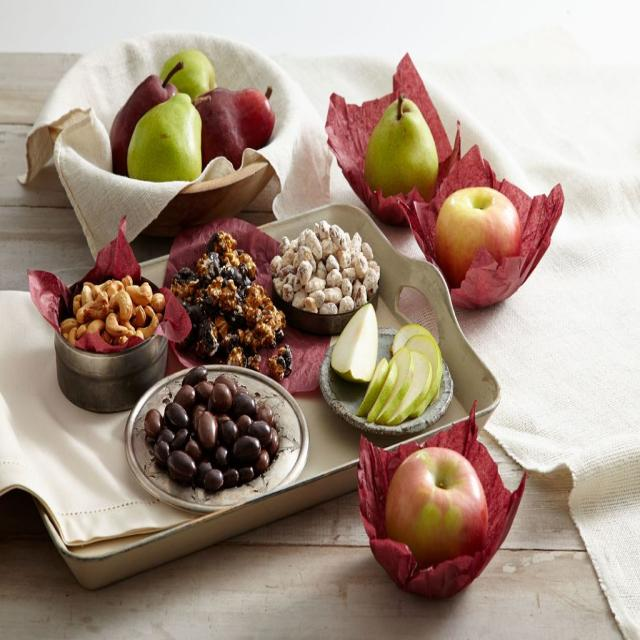Healty Apple: (389, 448, 495, 582), (435, 186, 529, 296)
